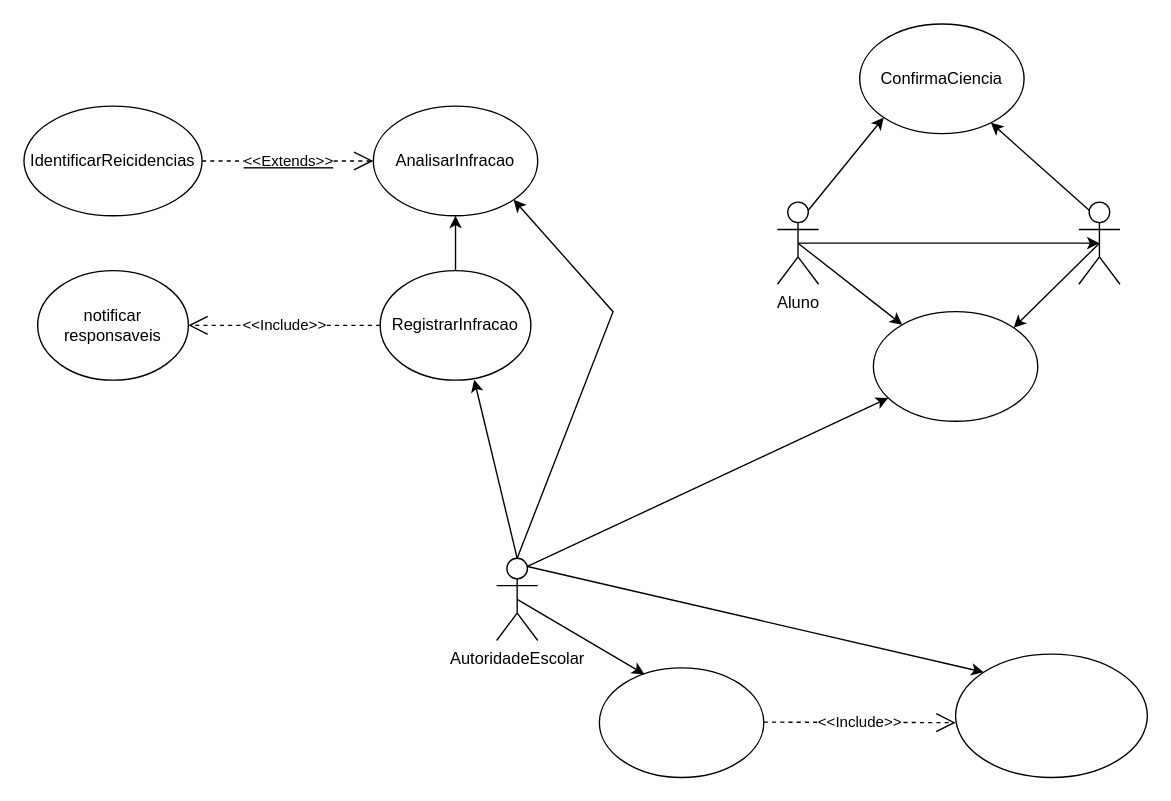
This 1171x801 diagram has some shape labels left out. Here are the shapes that lost their labels. From the top down, the centre of each, then its label:
At [1099,242]: "Responsavel".
At [955,365]: "Consultar infracoes".
At [681,722]: "Assinatura".
At [1050,715]: "FinalizarProcesso".
